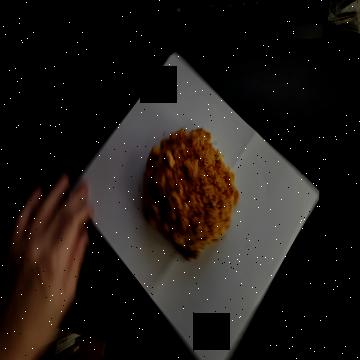soboru_bread: (142, 130, 236, 256)
